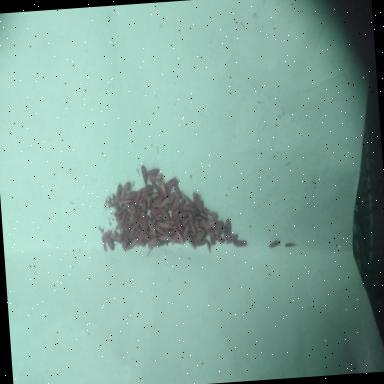pbw: (157, 178, 167, 198), (119, 180, 131, 196), (104, 231, 114, 250), (147, 218, 157, 237), (214, 218, 225, 235), (174, 226, 184, 244), (186, 231, 196, 249), (139, 164, 148, 184), (203, 207, 218, 219), (170, 194, 180, 211), (182, 194, 195, 207), (173, 181, 182, 199), (133, 205, 142, 223), (114, 182, 122, 202), (156, 220, 172, 230), (164, 176, 180, 186), (194, 196, 204, 212), (126, 236, 138, 249), (152, 194, 164, 207), (194, 228, 205, 242), (126, 224, 136, 239), (158, 196, 170, 208), (149, 210, 161, 222), (181, 222, 189, 240), (146, 236, 158, 248), (146, 228, 162, 237), (160, 207, 170, 221), (132, 192, 142, 206), (170, 207, 180, 221), (198, 219, 213, 228), (225, 233, 238, 243), (140, 216, 148, 232), (188, 218, 196, 234), (128, 206, 136, 222), (148, 206, 162, 215), (225, 218, 232, 236), (154, 224, 166, 234), (148, 172, 163, 180), (198, 210, 210, 220), (121, 235, 129, 250), (268, 239, 281, 248), (123, 190, 136, 199), (124, 222, 132, 236), (146, 168, 160, 176), (138, 184, 152, 192), (175, 220, 183, 234), (232, 238, 246, 246), (175, 197, 186, 207), (214, 232, 224, 243), (192, 192, 198, 210), (136, 236, 145, 248), (209, 227, 215, 245), (222, 223, 228, 241), (157, 234, 172, 241), (168, 191, 176, 204), (116, 214, 122, 231), (150, 180, 160, 190), (180, 216, 190, 226), (150, 192, 160, 202), (126, 180, 136, 190), (195, 225, 206, 234), (121, 208, 128, 222), (194, 214, 208, 221), (134, 216, 142, 228), (112, 207, 124, 215), (101, 236, 107, 252), (112, 192, 118, 208), (182, 205, 195, 212), (188, 212, 195, 225), (145, 196, 151, 210), (100, 228, 106, 242), (190, 208, 200, 216), (170, 234, 178, 244), (112, 233, 122, 241), (194, 238, 204, 246), (119, 198, 132, 204), (176, 211, 188, 217), (140, 200, 146, 212), (164, 228, 174, 235), (176, 215, 186, 222), (123, 201, 132, 208), (144, 232, 150, 242), (206, 238, 210, 252), (154, 212, 162, 218), (284, 242, 296, 246), (137, 196, 143, 203), (168, 220, 175, 225)
